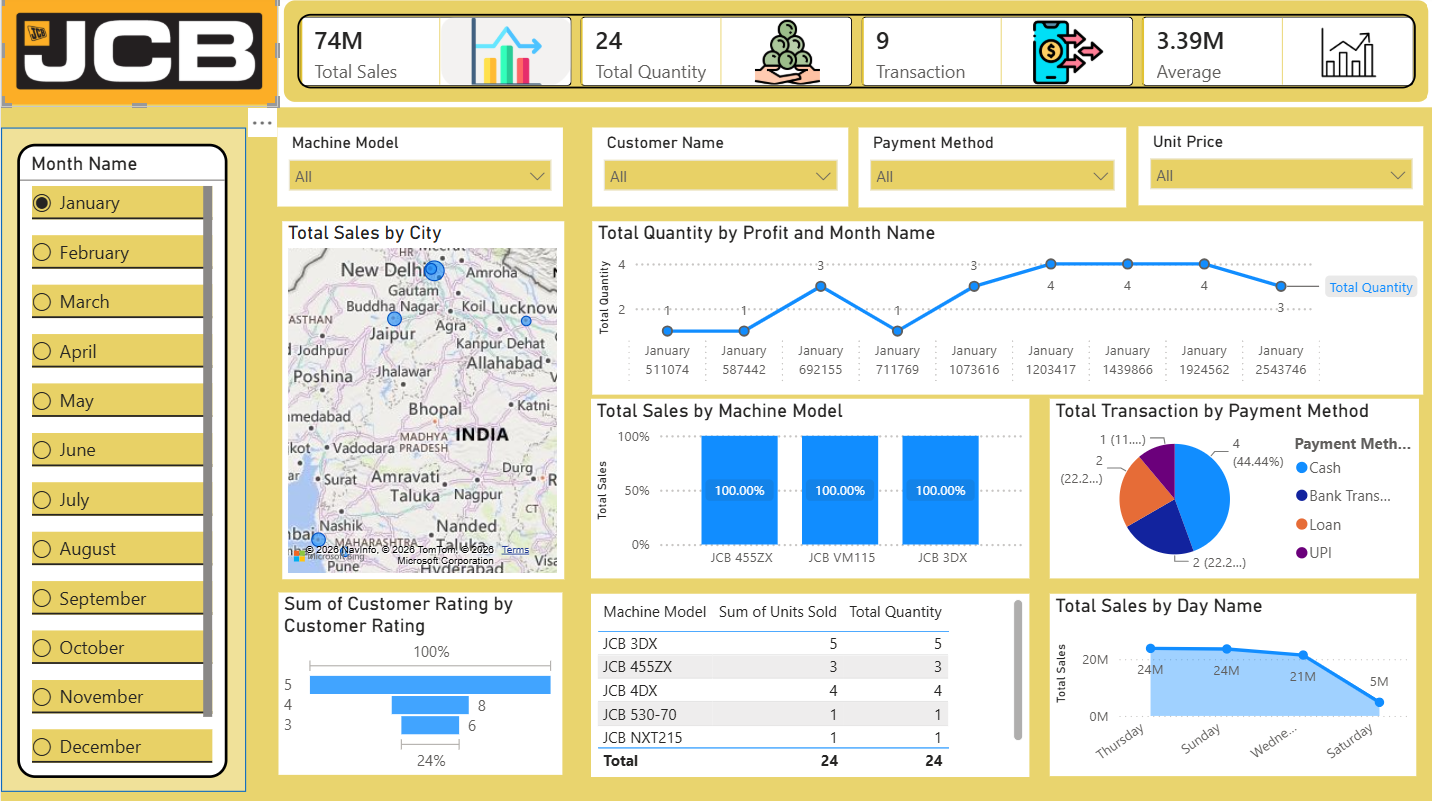

The dashboard page shown, as its layout file describes it:
{"tool":"powerbi","page":{"name":"Page 1","canvas":[1280,720],"ordinal":0},"visuals":[{"type":"image","box":[0,0,246.7,100],"z":0},{"type":"shape","box":[0,118.3,218.3,591.7],"z":1000},{"type":"listSlicer","fields":{"Values":["Sheet1.Month Name"]},"box":[15,132.5,187.5,565],"z":2000},{"type":"cardVisual","fields":{"Data":["Sheet1.Total Sales","Sheet1.Total Quantity","CountNonNull(Sheet1.Transaction ID)","Sheet1.Average"]},"box":[246.7,0,1033.3,100],"z":3000},{"type":"map","fields":{"Category":["Sheet1.City"],"Size":["Sheet1.Total Sales"]},"box":[250,202,250,318],"z":4000},{"type":"lineChart","fields":{"Category":["Sheet1.Profit","Sheet1.Month Name"],"Y":["Sheet1.Total Quantity"]},"box":[526,202,740,154],"z":5000},{"type":"hundredPercentStackedColumnChart","fields":{"Category":["Sheet1.Machine Model"],"Y":["Sheet1.Total Sales"]},"box":[525,360,390,160],"z":6000},{"type":"pieChart","fields":{"Category":["Sheet1.Payment Method"],"Y":["Sheet1.Total Transaction"]},"box":[934,360,329,160],"z":7000},{"type":"funnel","fields":{"Category":["Sheet1.Customer Rating"],"Y":["Sum(Sheet1.Customer Rating)"]},"box":[247.5,532.5,252.5,162.5],"z":8000},{"type":"areaChart","fields":{"Category":["Sheet1.Day Name"],"Y":["Sheet1.Total Sales"]},"box":[934,533,326,162],"z":9000},{"type":"tableEx","fields":{"Values":["Sheet1.Machine Model","Sum(Sheet1.Units Sold)","Sheet1.Total Quantity"]},"box":[525,533,390,163],"z":10000},{"type":"slicer","fields":{"Values":["Sheet1.Machine Model"]},"box":[246,118,254,70],"z":11000},{"type":"slicer","fields":{"Values":["Sheet1.Customer Name"]},"box":[526.4,118.2,228.2,70],"z":12000},{"type":"slicer","fields":{"Values":["Sheet1.Unit Price"]},"box":[1012.7,117.3,253.6,70],"z":13000},{"type":"slicer","fields":{"Values":["Sheet1.Payment Method"]},"box":[763.6,118.2,238.2,70.9],"z":14000}]}

Visuals, with their boxes on the page's 1280x720 design canvas (x1, y1, x2, y2). These are canvas units, not pixel positions in the 1432x801 screenshot, which may show the page scaled, cropped or inside an application window:
image: bbox=[0, 0, 247, 100]
shape: bbox=[0, 118, 218, 710]
listSlicer - Sheet1.Month Name: bbox=[15, 132, 202, 698]
cardVisual - Sheet1.Total Sales x Sheet1.Total Quantity: bbox=[247, 0, 1280, 100]
map - Sheet1.City x Sheet1.Total Sales: bbox=[250, 202, 500, 520]
lineChart - Sheet1.Profit x Sheet1.Month Name: bbox=[526, 202, 1266, 356]
hundredPercentStackedColumnChart - Sheet1.Machine Model x Sheet1.Total Sales: bbox=[525, 360, 915, 520]
pieChart - Sheet1.Payment Method x Sheet1.Total Transaction: bbox=[934, 360, 1263, 520]
funnel - Sheet1.Customer Rating x Sum(Sheet1.Customer Rating): bbox=[248, 532, 500, 695]
areaChart - Sheet1.Day Name x Sheet1.Total Sales: bbox=[934, 533, 1260, 695]
tableEx - Sheet1.Machine Model x Sum(Sheet1.Units Sold): bbox=[525, 533, 915, 696]
slicer - Sheet1.Machine Model: bbox=[246, 118, 500, 188]
slicer - Sheet1.Customer Name: bbox=[526, 118, 755, 188]
slicer - Sheet1.Unit Price: bbox=[1013, 117, 1266, 187]
slicer - Sheet1.Payment Method: bbox=[764, 118, 1002, 189]
